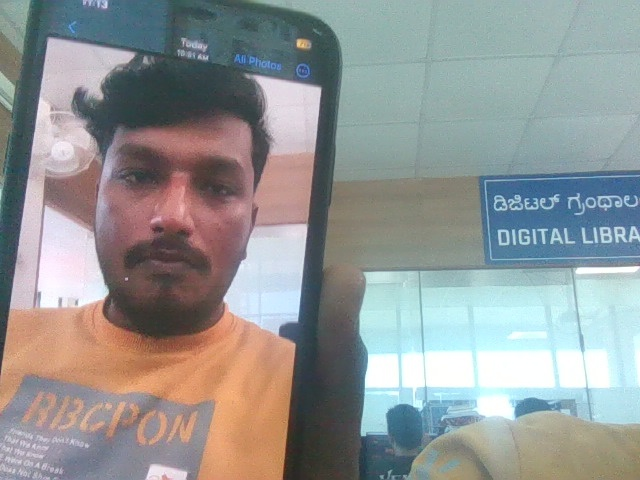fake: (66, 25, 289, 341)
